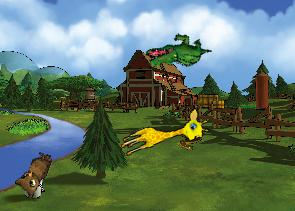crocodile: (143, 22, 212, 83)
giraffe: (117, 105, 212, 167)
owl: (11, 146, 53, 199)
